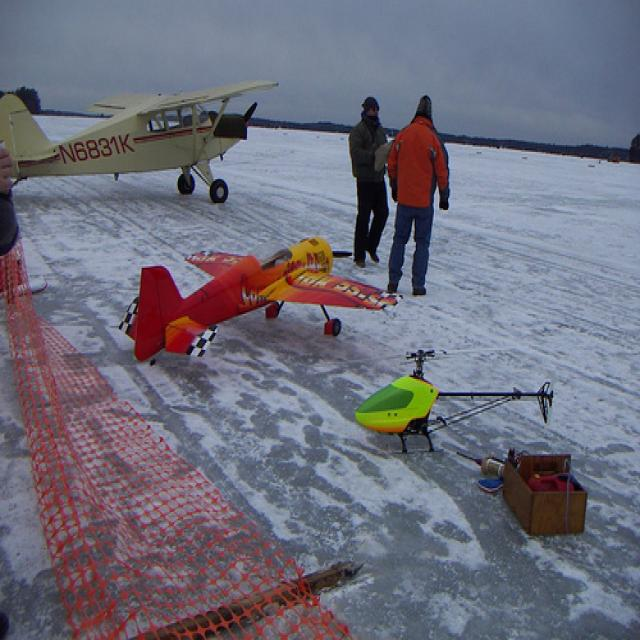aeroplane: (1, 78, 281, 206)
person: (388, 93, 452, 298), (348, 95, 389, 267)
